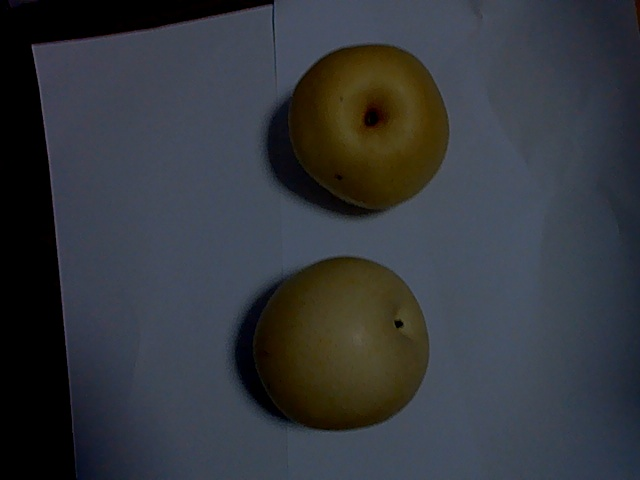pear: (246, 254, 431, 425), (290, 42, 456, 215)
